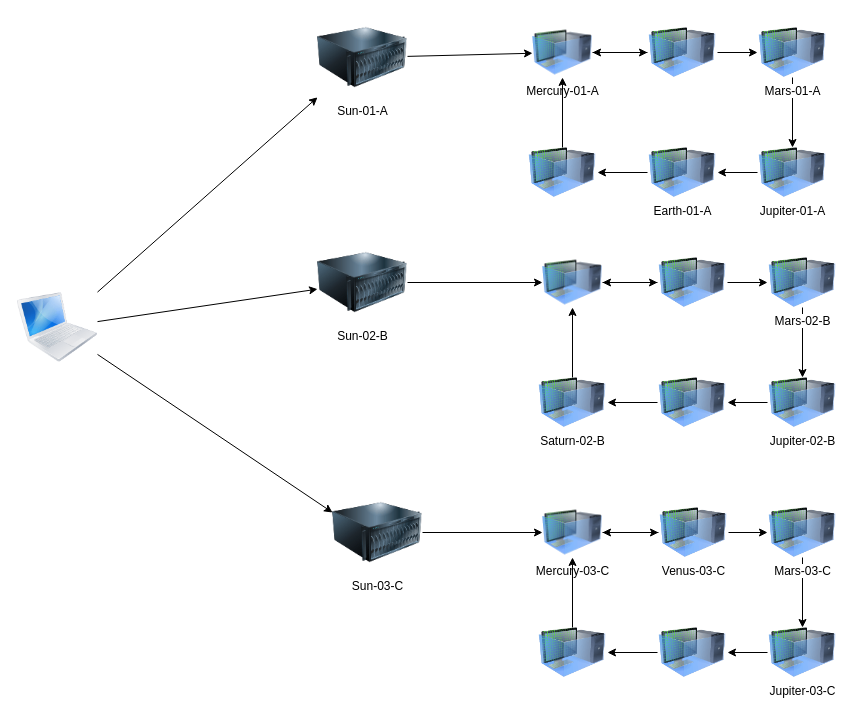
Image size: 854x715. Some labels were removed from this diagram. Here are the shapes that lost their labels. From the top down, the centre of each, then its label:
At pixel 682 52: "Venus-01-A".
At pixel 562 172: "Saturn-01-A".
At pixel 572 282: "Mercury-02-B".
At pixel 692 282: "Venus-02-B".
At pixel 692 402: "Earth-02-B".
At pixel 572 652: "Saturn-03-C".
At pixel 692 652: "Earth-03-C".
